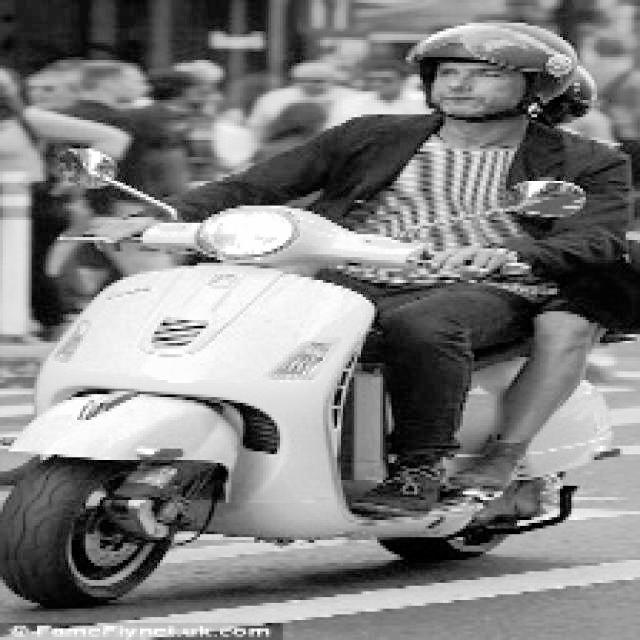Bike: (34, 213, 604, 593)
